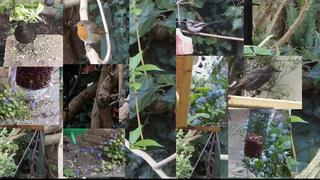blackbird: (14, 20, 43, 57)
long tailed tit: (185, 20, 224, 35)
robin: (73, 20, 110, 52)
starling: (231, 64, 282, 98)
